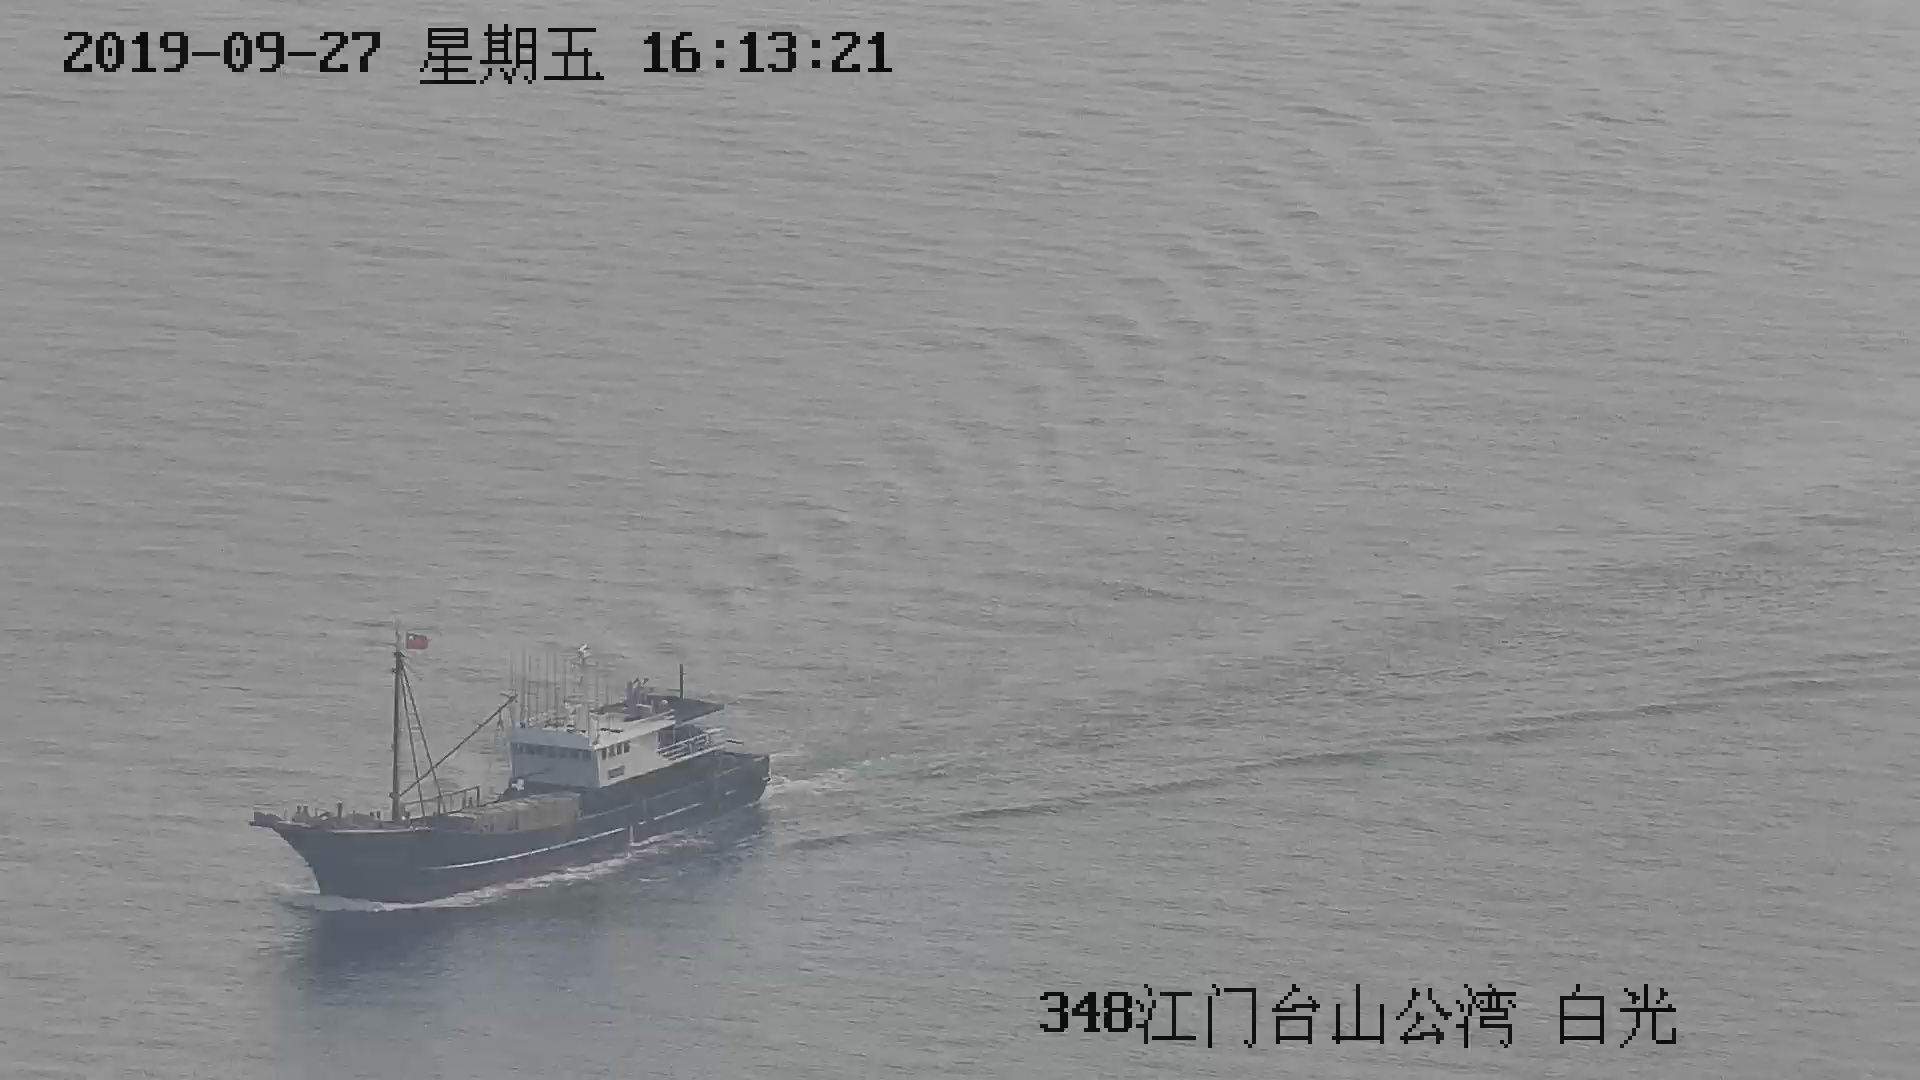ship: (252, 585, 777, 913)
